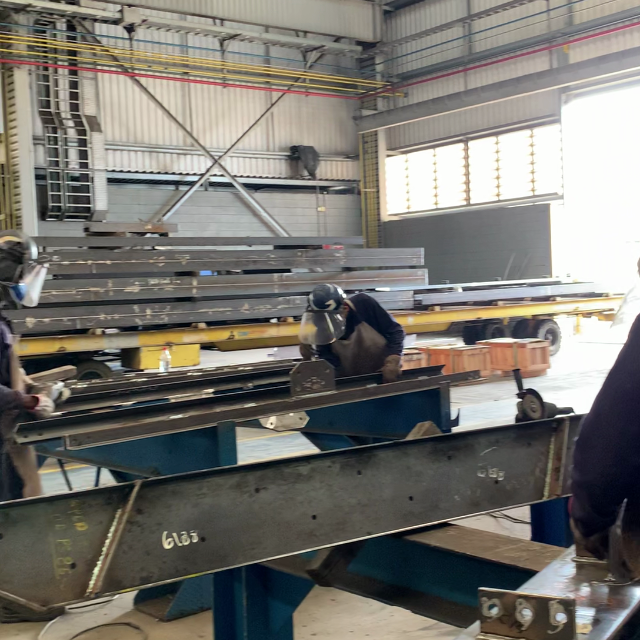face-shield: (297, 311, 348, 349), (12, 262, 50, 306)
glove: (379, 354, 404, 381), (31, 393, 55, 419), (46, 381, 75, 398)
helmet: (305, 283, 352, 315), (1, 238, 38, 268)
person: (2, 233, 72, 419), (297, 286, 407, 381)
